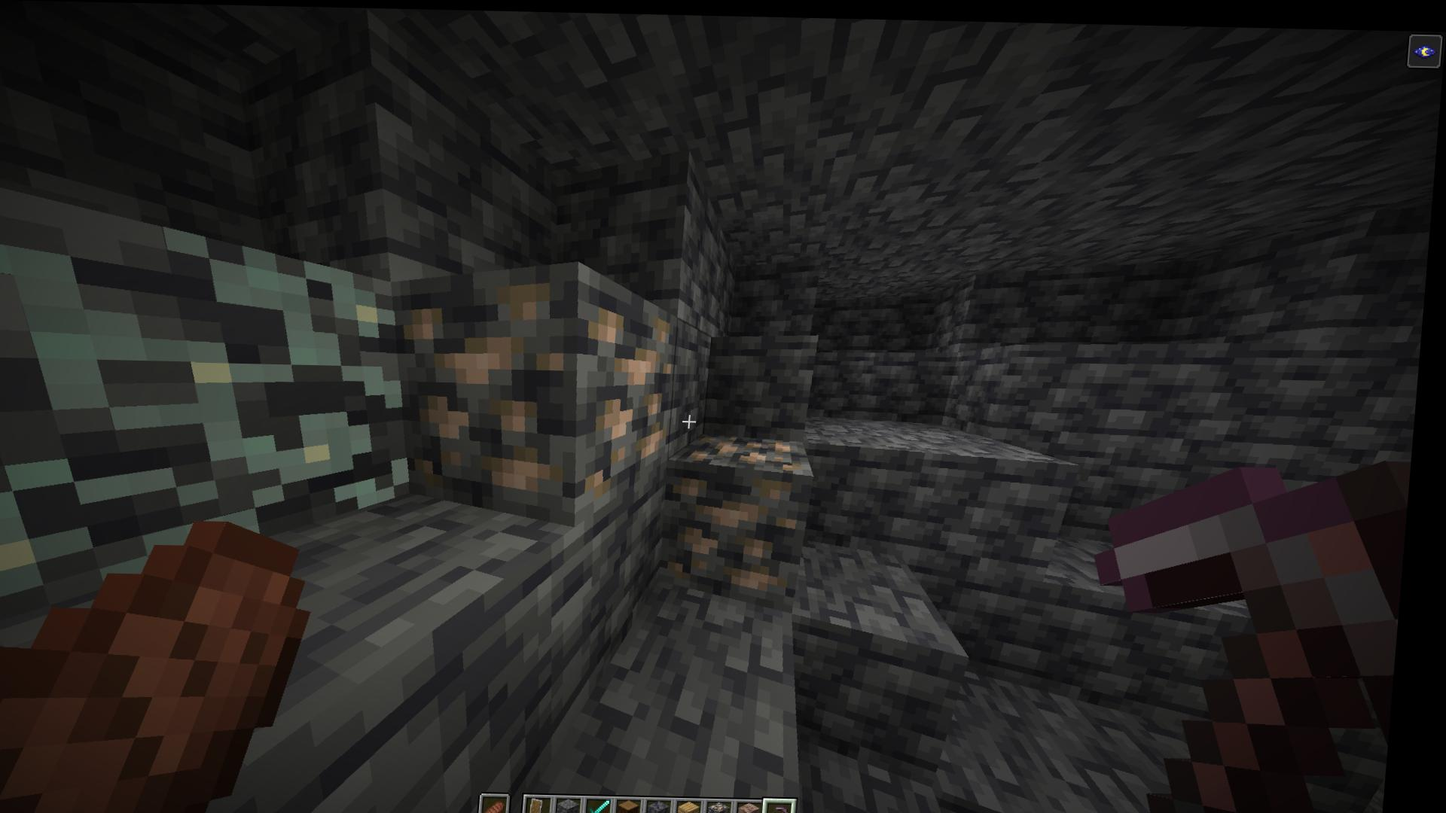iron ore: (378, 271, 594, 502), (574, 282, 685, 487), (673, 469, 816, 607), (685, 426, 817, 470)
